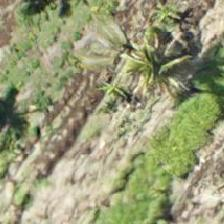coconut_tree: (120, 15, 210, 105)
